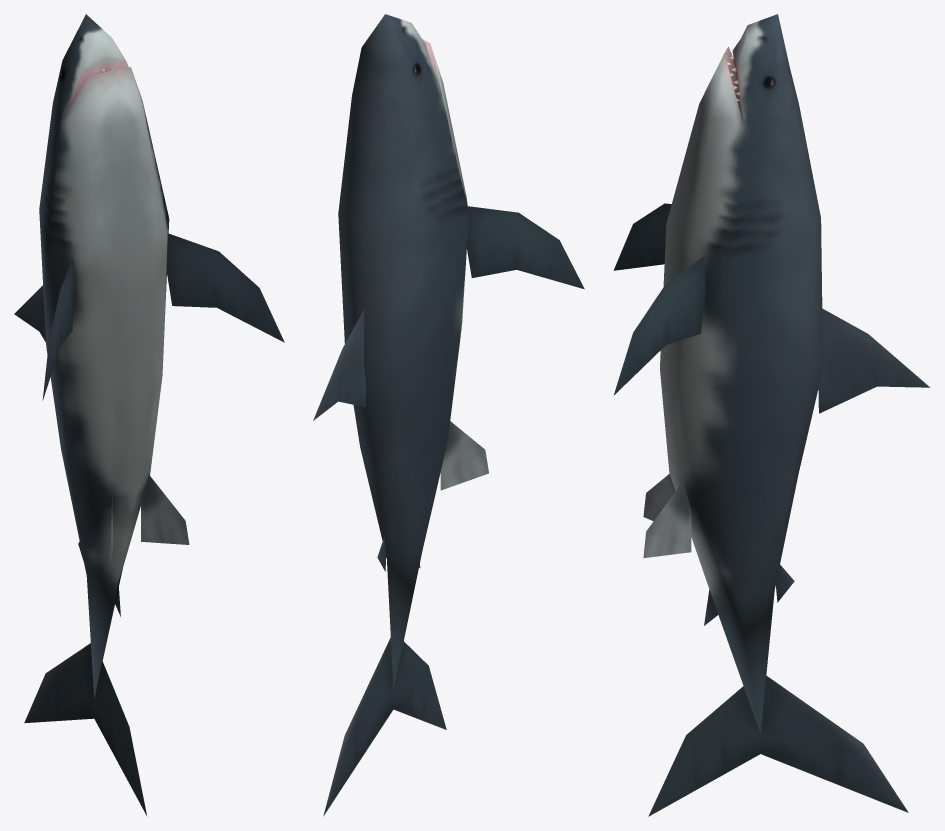
Rendered from Shark.dae.
3 renders of one model, left to right at view 1: azimuth 30°, elevation 25°; view 2: azimuth 150°, elevation 25°; view 3: azimuth 270°, elevation 25°, orthographic. The views are drawn at different scales.
Visible parts, largest first — view 1: Shark; view 2: Shark; view 3: Shark.
Part boxes in pixels (<box>): Shark: <box>14,14,284,816</box>; Shark: <box>313,14,584,816</box>; Shark: <box>613,14,929,816</box>.
Size of the model in its own units: 2.48 by 2.65 by 7.4.
Materials: 1 (1 with a texture image).
